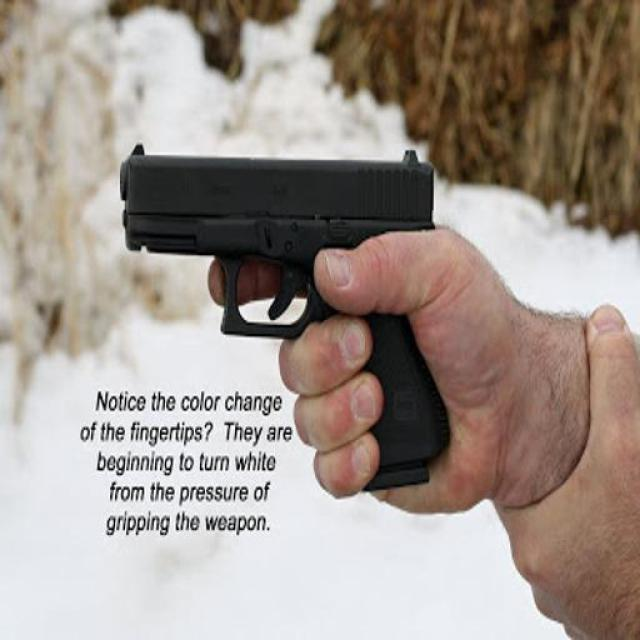pistol: (116, 140, 447, 486)
